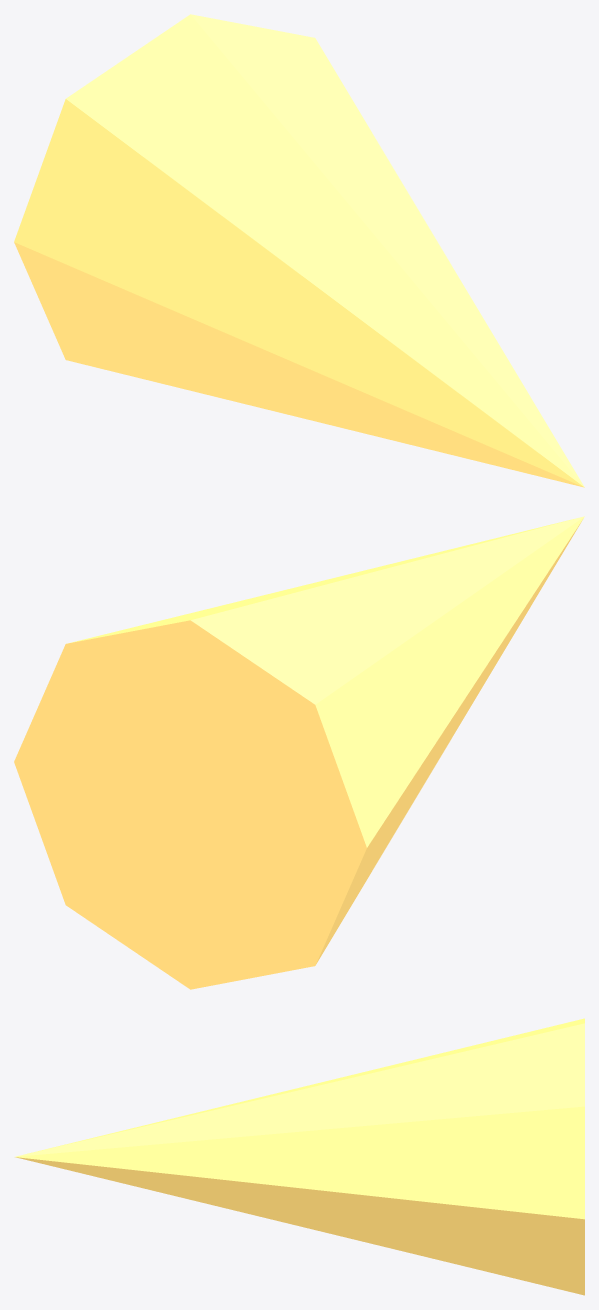
The model's file is ember_direction_beak.glb.
3 renders of one model, top to bottom at view 1: azimuth 30°, elevation 25°; view 2: azimuth 150°, elevation 25°; view 3: azimuth 270°, elevation 25°, orthographic. The views are drawn at different scales.
Parts seen in each view (by area): view 1: DirectionBeak; view 2: DirectionBeak; view 3: DirectionBeak.
Boxes of the visible parts, x1,y1,x2,y2 form: DirectionBeak: (14,14,584,487); DirectionBeak: (14,516,584,989); DirectionBeak: (15,1018,584,1295).
Bounding box in the file's own units: 1.24 × 1.24 × 2.4.
